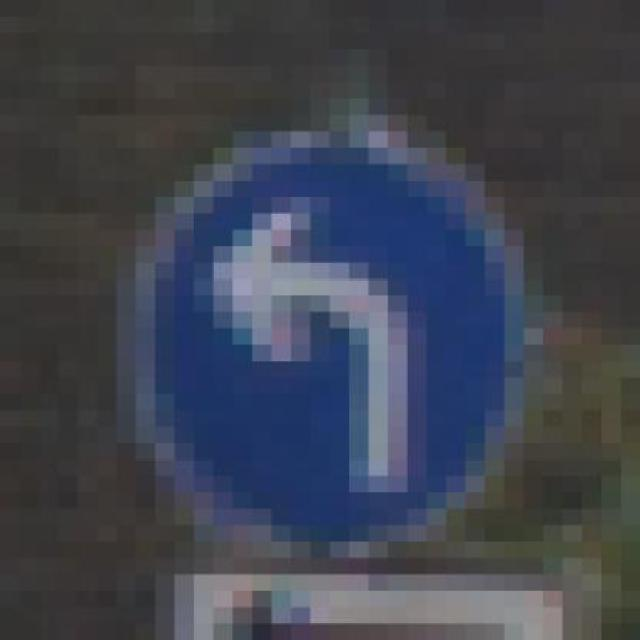Turn left ahead: (77, 115, 543, 558)
